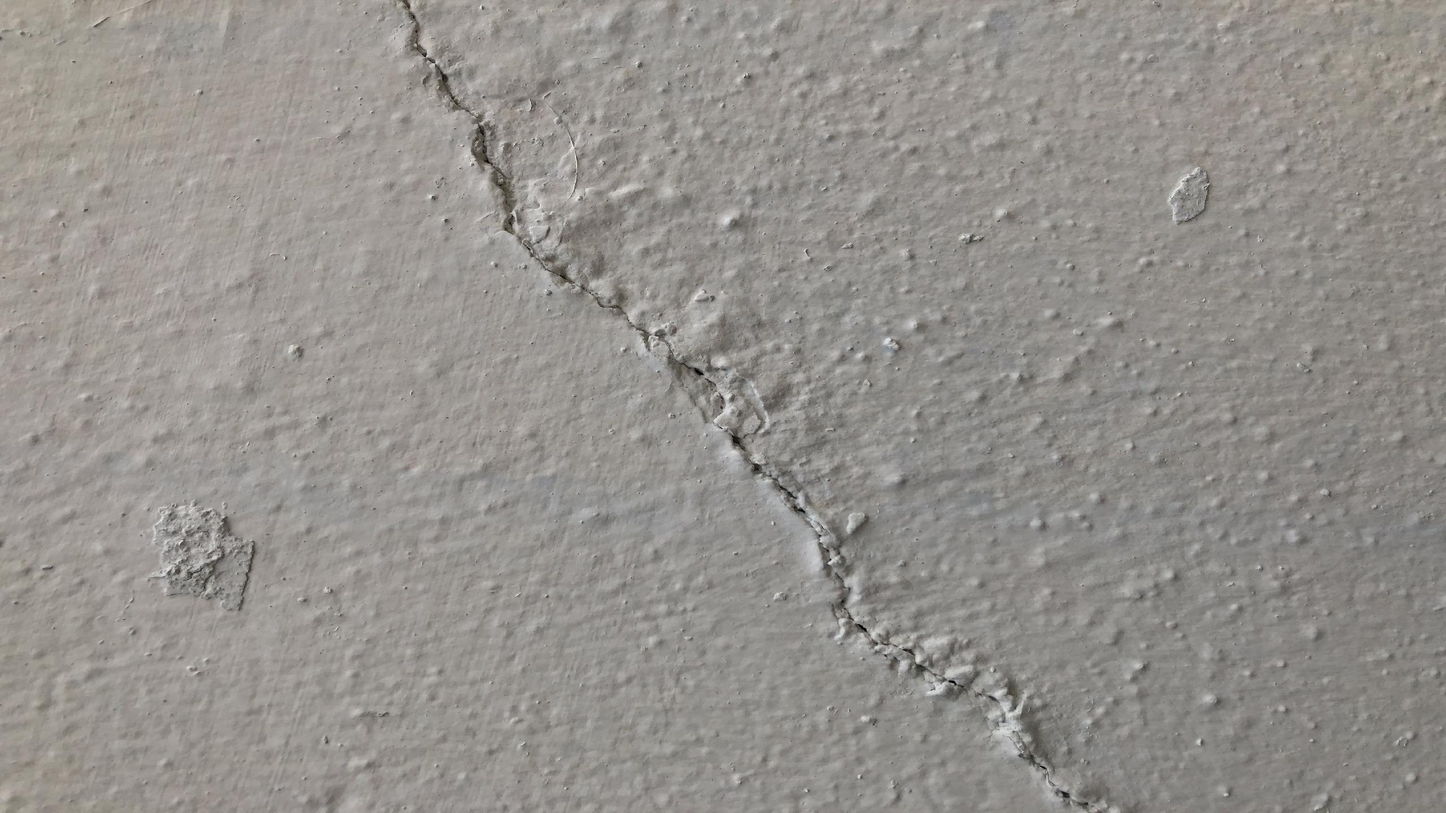crack: (405, 2, 1101, 812)
